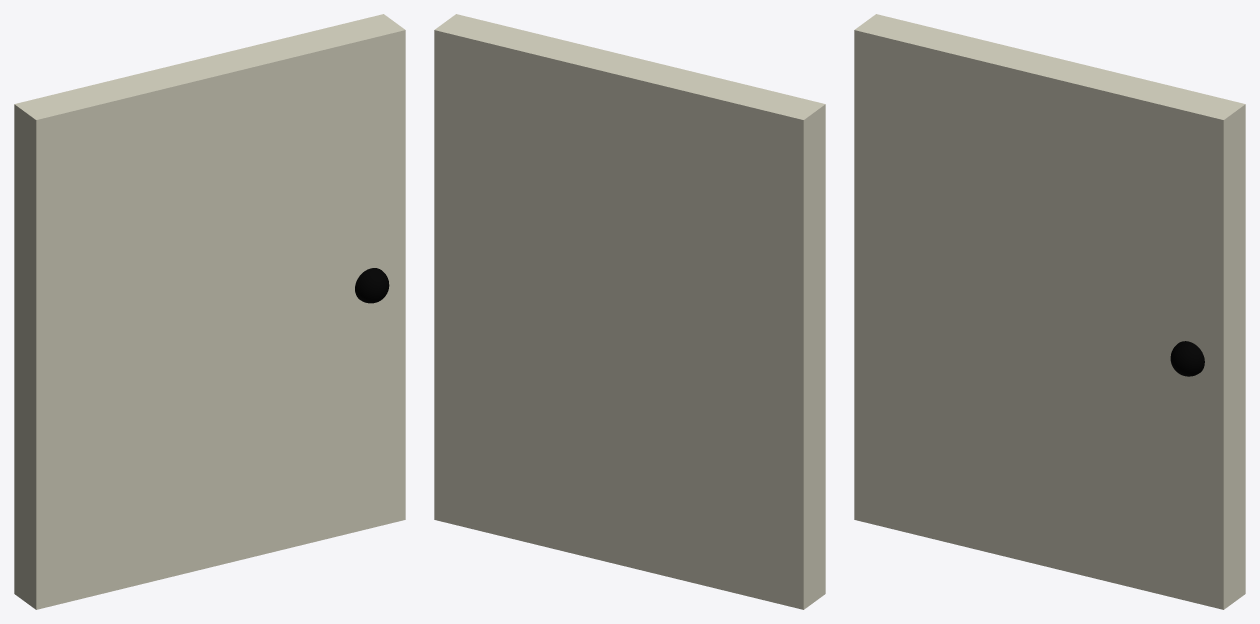
The model's file is Door.FBX.
3 renders of one model, left to right at view 1: azimuth 30°, elevation 25°; view 2: azimuth 150°, elevation 25°; view 3: azimuth 330°, elevation 25°, orthographic.
Visible parts, largest first — view 1: Box001, Sphere001; view 2: Box001; view 3: Box001, Sphere001.
Part boxes in pixels (x1,y1,x2,y2): Box001: (14,14,405,609); Sphere001: (355,268,389,303); Box001: (434,14,825,609); Box001: (854,14,1245,609); Sphere001: (1170,341,1204,376).
Size of the model in its own units: 12.15 by 15.4 by 1.77.
